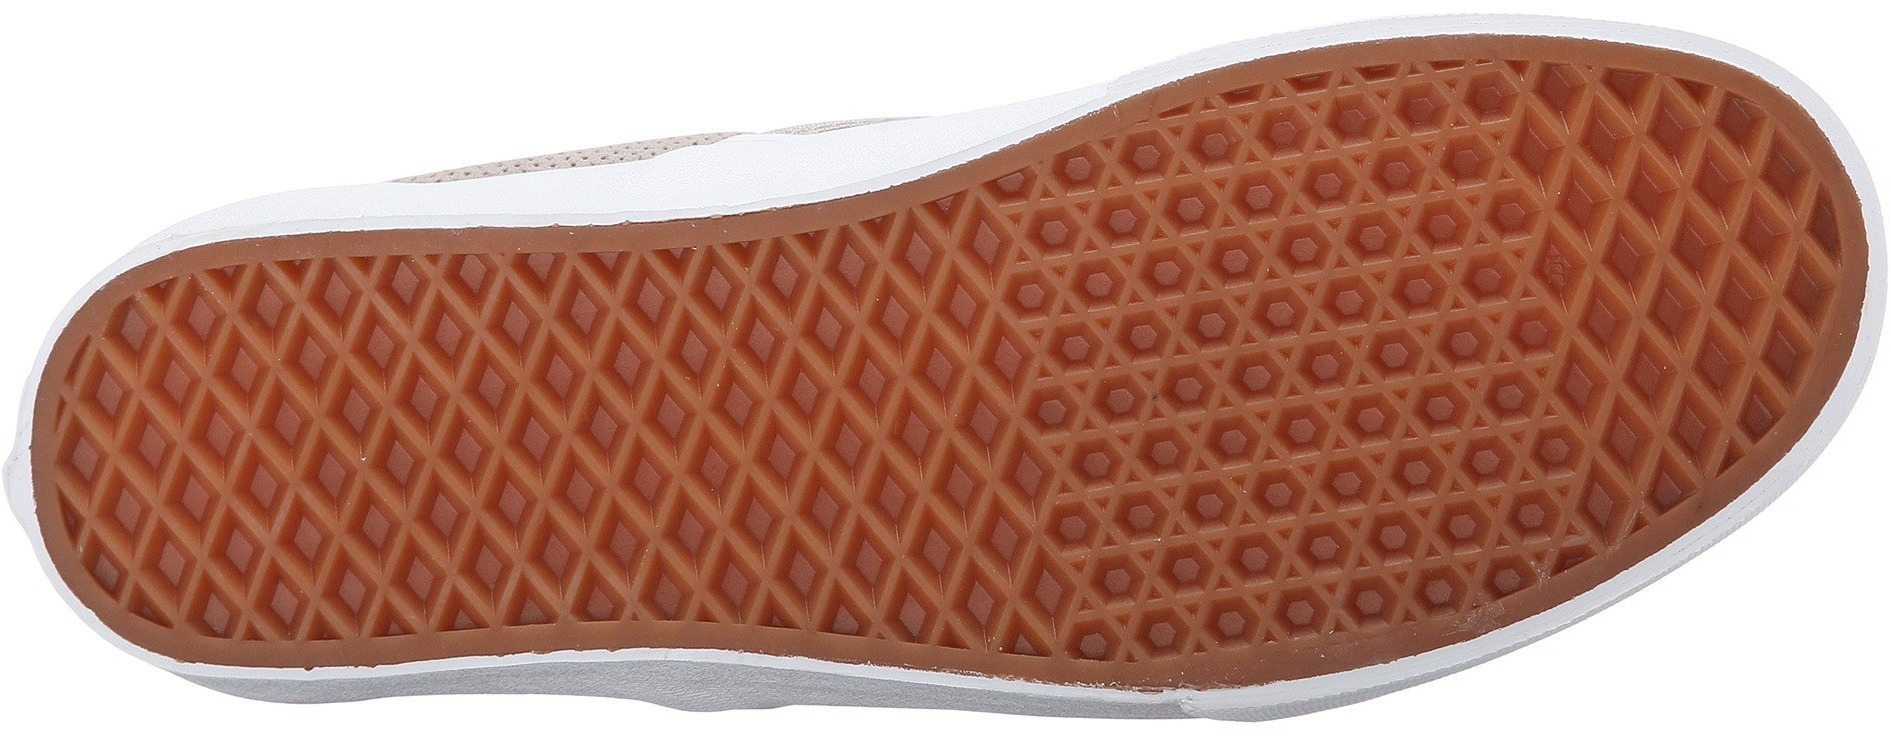polygon: (1251, 88, 1514, 366), (1055, 419, 1305, 643), (1009, 163, 1242, 402), (1312, 368, 1547, 594)
quad: (681, 251, 999, 606), (101, 320, 375, 606), (377, 261, 671, 516), (1547, 110, 1823, 380), (1582, 387, 1706, 503)
triangle: (1251, 88, 1514, 366), (1055, 419, 1305, 643), (1009, 163, 1242, 402), (1312, 368, 1547, 594)
